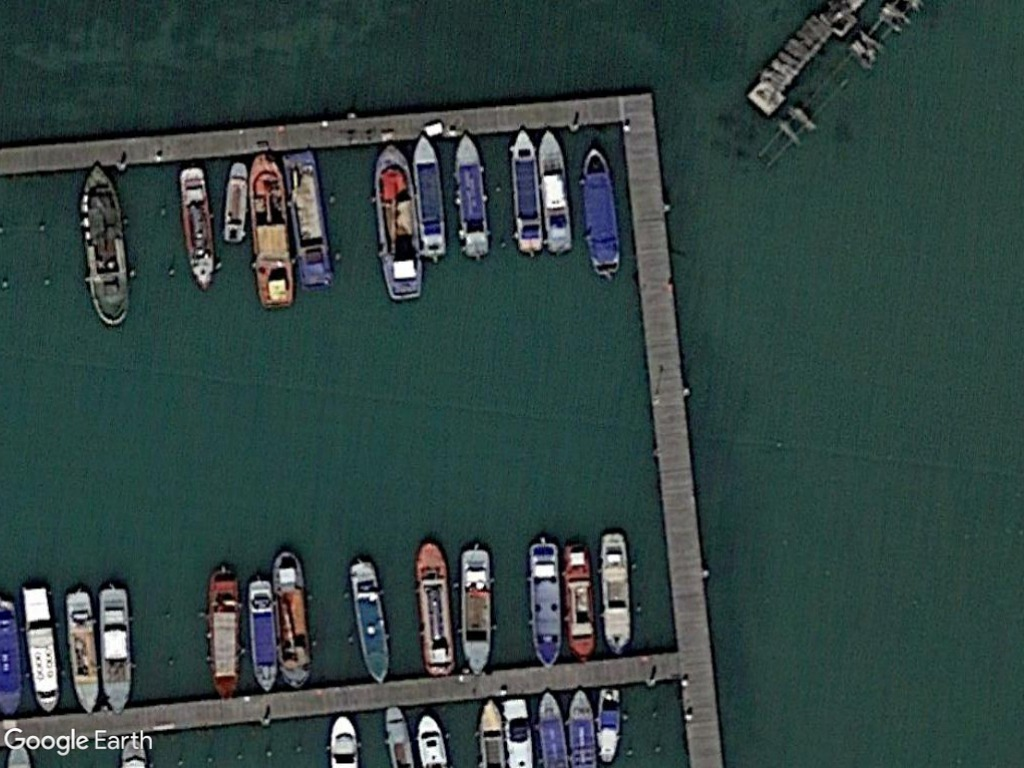boat: (77, 160, 135, 331), (244, 150, 300, 310), (370, 142, 425, 302), (279, 148, 339, 292), (411, 537, 460, 677), (577, 143, 627, 280), (344, 554, 394, 689), (269, 543, 310, 695), (19, 581, 65, 715), (62, 585, 106, 719), (451, 126, 494, 263), (534, 125, 578, 258), (524, 536, 567, 672), (175, 163, 219, 293), (205, 562, 246, 701), (95, 582, 136, 717), (407, 129, 447, 262), (595, 527, 633, 661), (456, 544, 494, 677), (506, 125, 544, 257), (245, 573, 284, 696), (563, 538, 600, 662), (532, 688, 570, 768), (220, 157, 252, 249), (566, 682, 595, 768), (593, 683, 622, 768)
